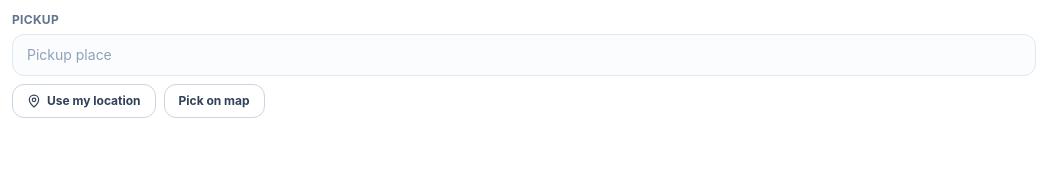
Test: RideLocationField current location › drops the saved point as soon as the address text is edited, so text and coordinates cannot disagree
Click the button "Use my location" at (84, 101), box [12, 84, 156, 118]
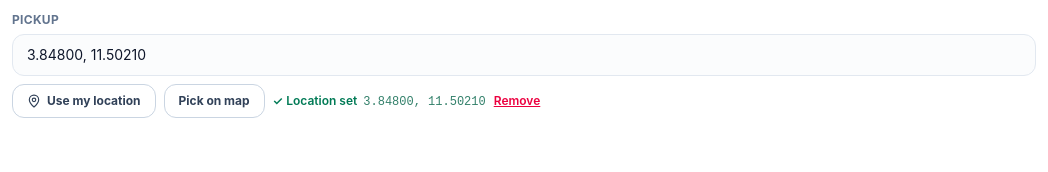
Result: the text "3.84800, 11.50210" is shown at [363, 94, 486, 108]
Replace the text in the field labelled "Pickup" with "Mvan, Yaoundé" at (524, 55), box [12, 34, 1036, 76]
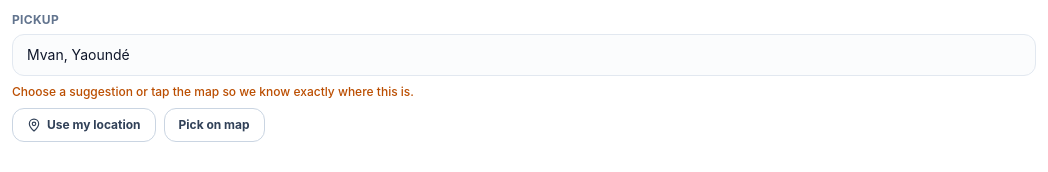
Result: the text "3.84800, 11.50210" is gone
Result: the text "Location set" is gone
